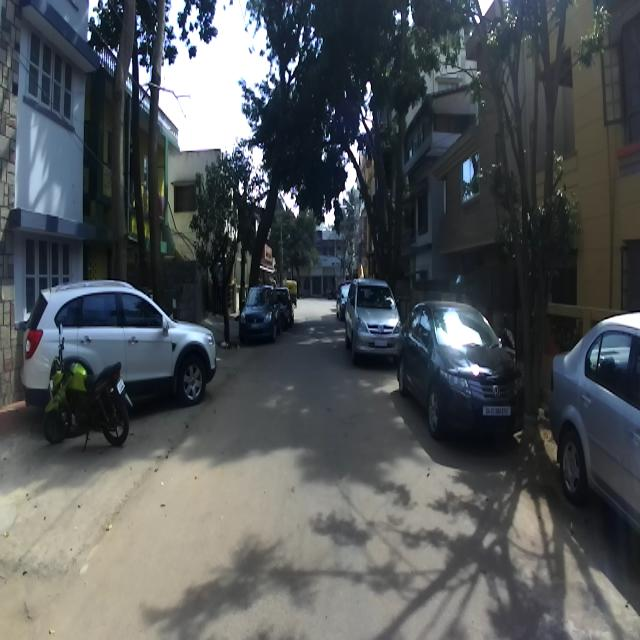car ahead at: (32, 285, 212, 420), (398, 299, 526, 459), (548, 310, 640, 524), (342, 278, 402, 365)
motorcycle ahead at: (44, 342, 136, 451)
